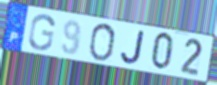0: (150, 31, 176, 74)
2: (179, 38, 203, 78)
9: (61, 18, 84, 57)
G: (27, 14, 57, 52)
J: (120, 29, 146, 66)
O: (87, 23, 117, 63)
